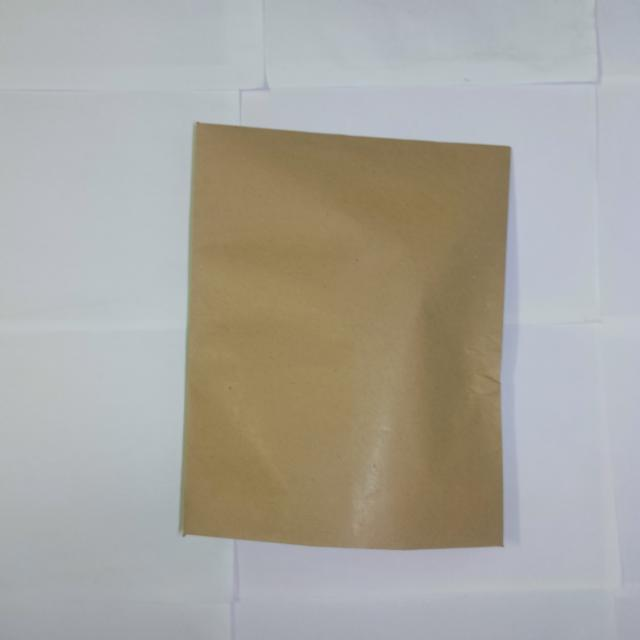box: (183, 122, 506, 547)
